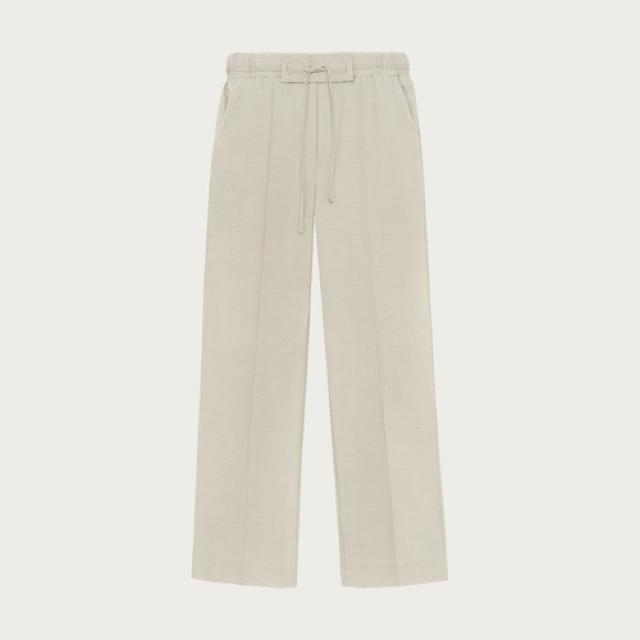Slacks_black-white: (201, 54, 446, 581)
